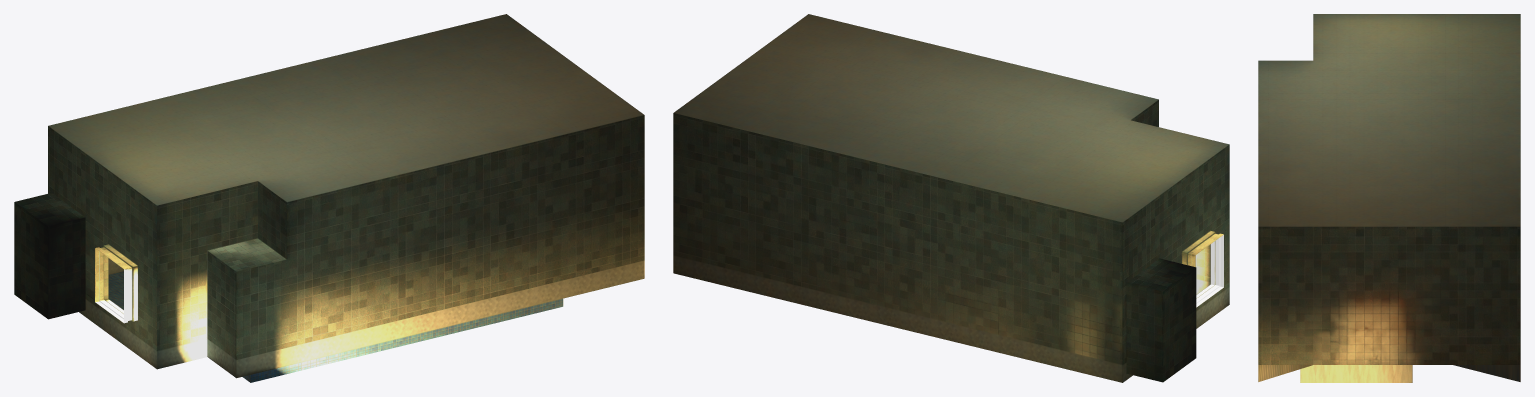
Rendered from vr_liminal_room_baked.glb.
3 renders of one model, left to right at view 1: azimuth 30°, elevation 25°; view 2: azimuth 150°, elevation 25°; view 3: azimuth 270°, elevation 25°, orthographic. The views are drawn at different scales.
Visible parts, largest first — view 1: Plane.001_0; view 2: Plane.001_0; view 3: Plane.001_0.
Boxes of the visible parts, x1=… form: Plane.001_0: x1=14, y1=14, x2=644, y2=382; Plane.001_0: x1=673, y1=14, x2=1229, y2=382; Plane.001_0: x1=1258, y1=14, x2=1520, y2=382.
Size of the model in its own units: 15.85 by 5.91 by 7.64.
1 material, 1 textured.
